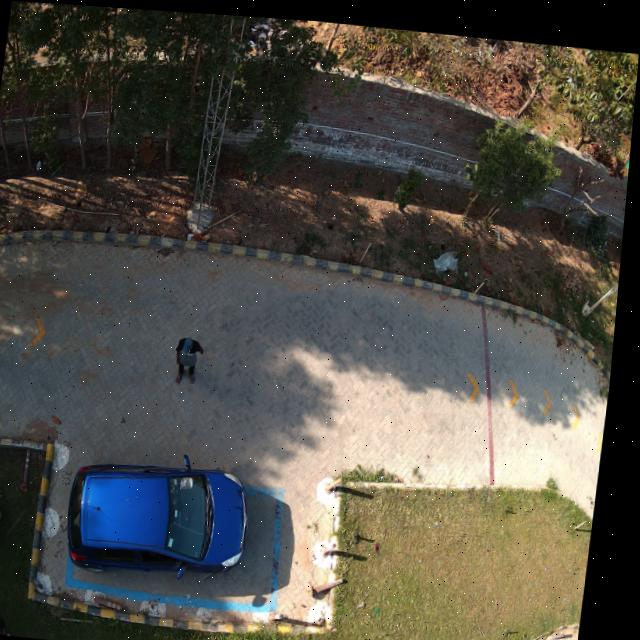car: (76, 452, 257, 576)
